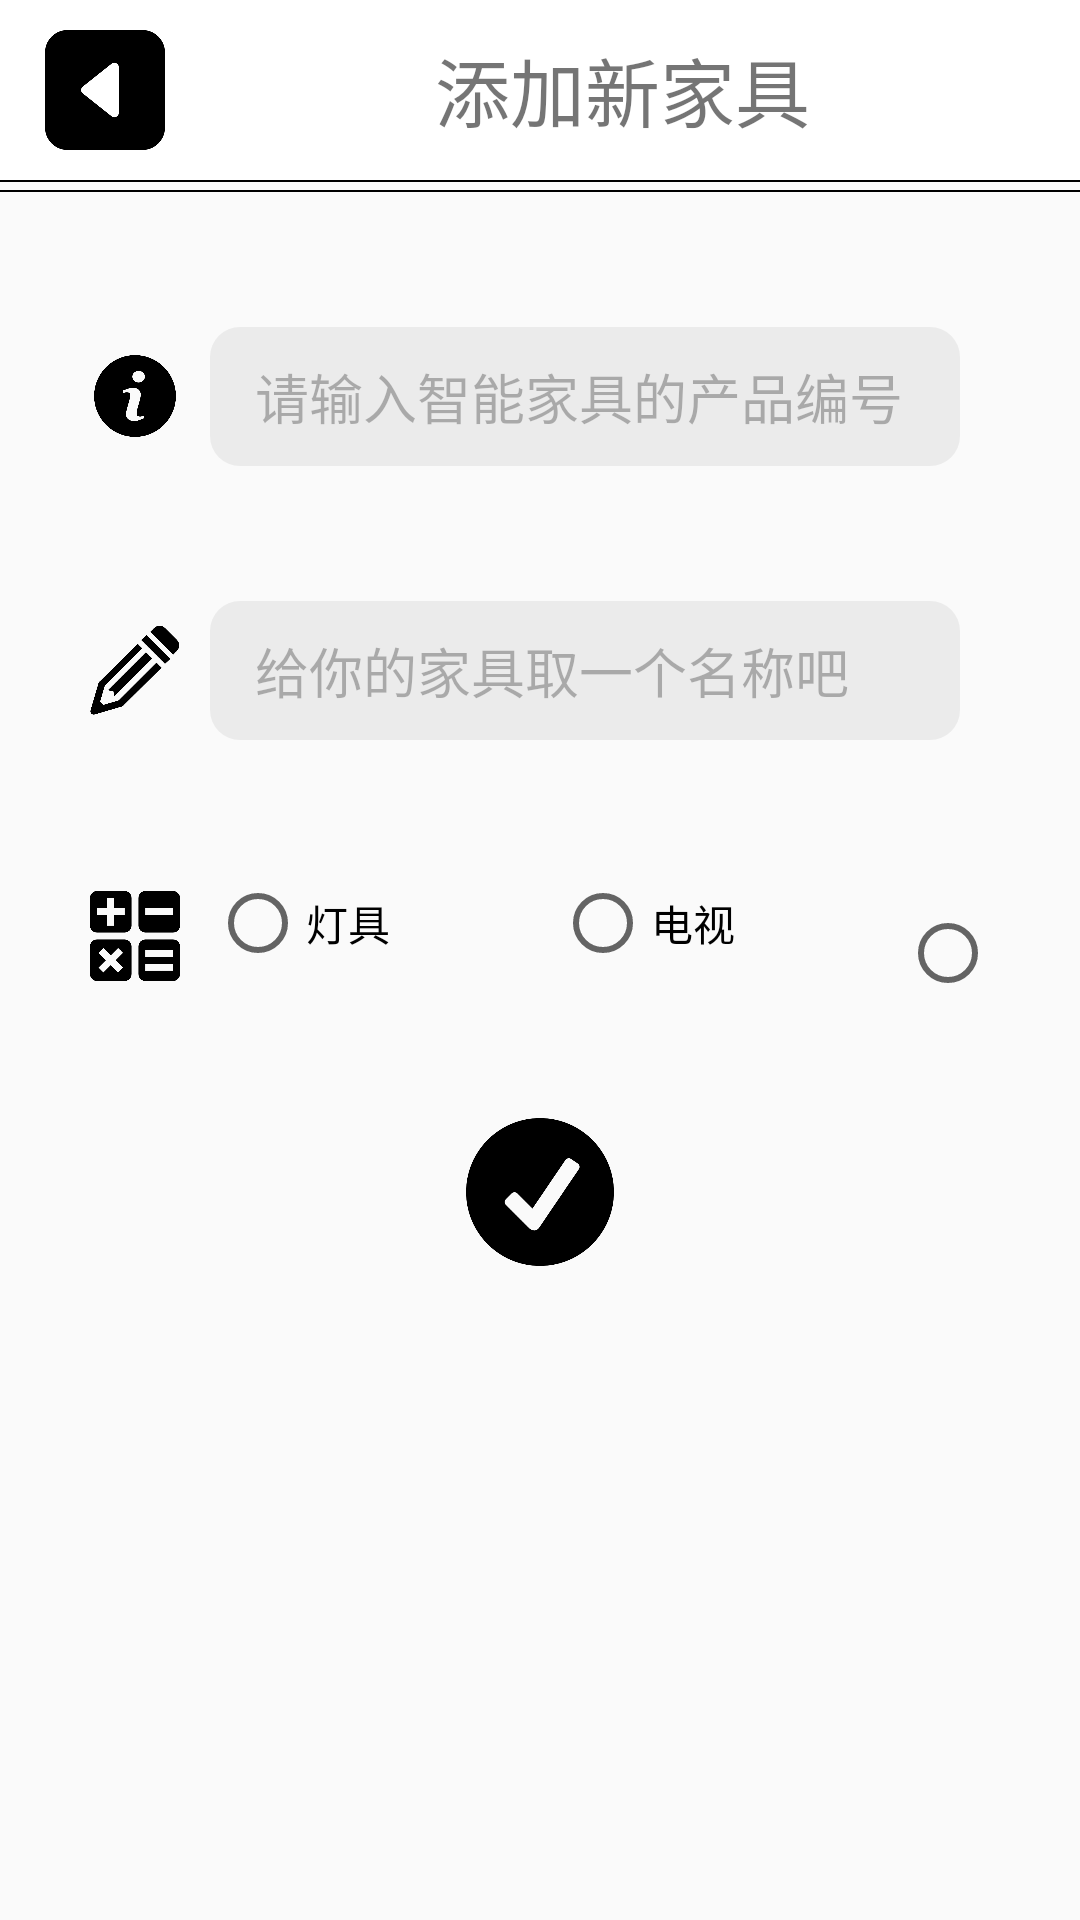

Locate icon controls on the screen. Image size 1080×1920, boxes as (x1, y1, x2, y2).
back: (45, 30, 165, 150)
edit: (90, 626, 179, 715)
info: (94, 355, 176, 437)
